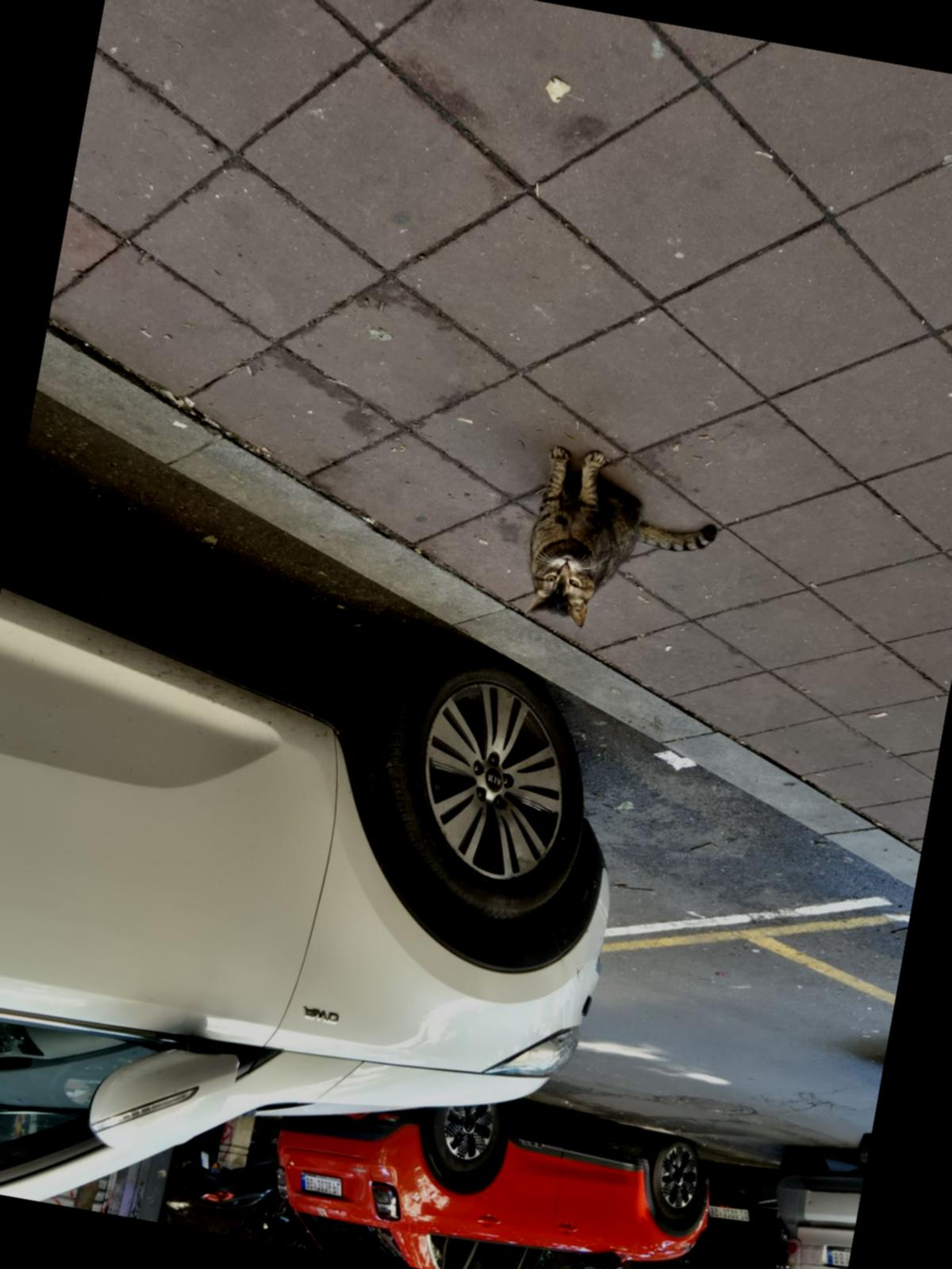macka: (515, 442, 728, 650)
